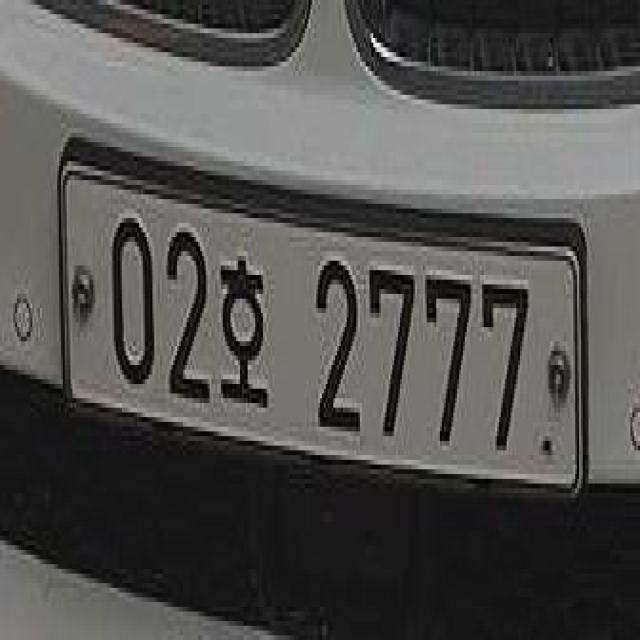illegal_plate: (62, 137, 589, 526)
